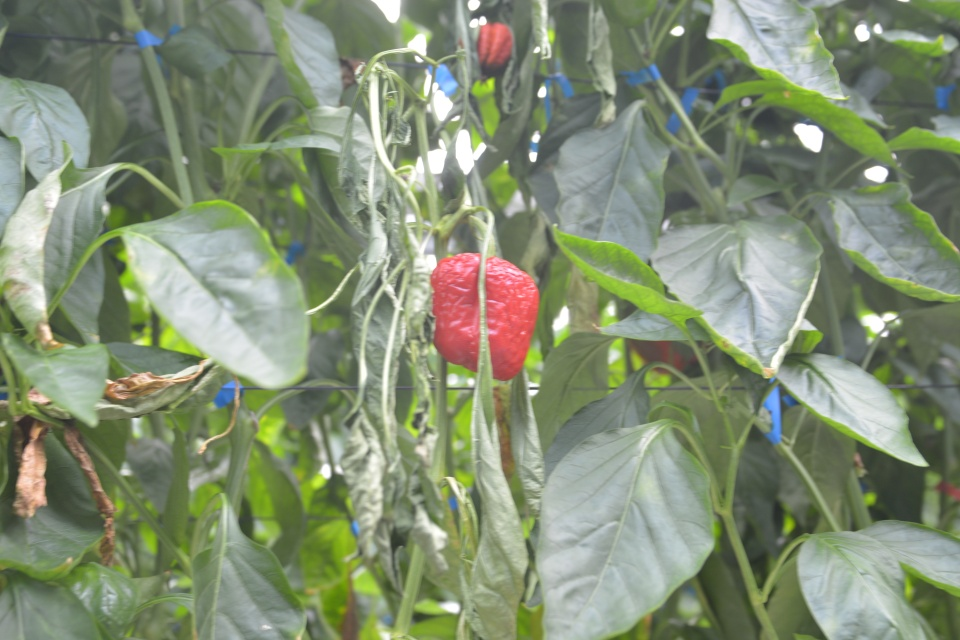fruit: (429, 252, 541, 379), (475, 18, 514, 78)
